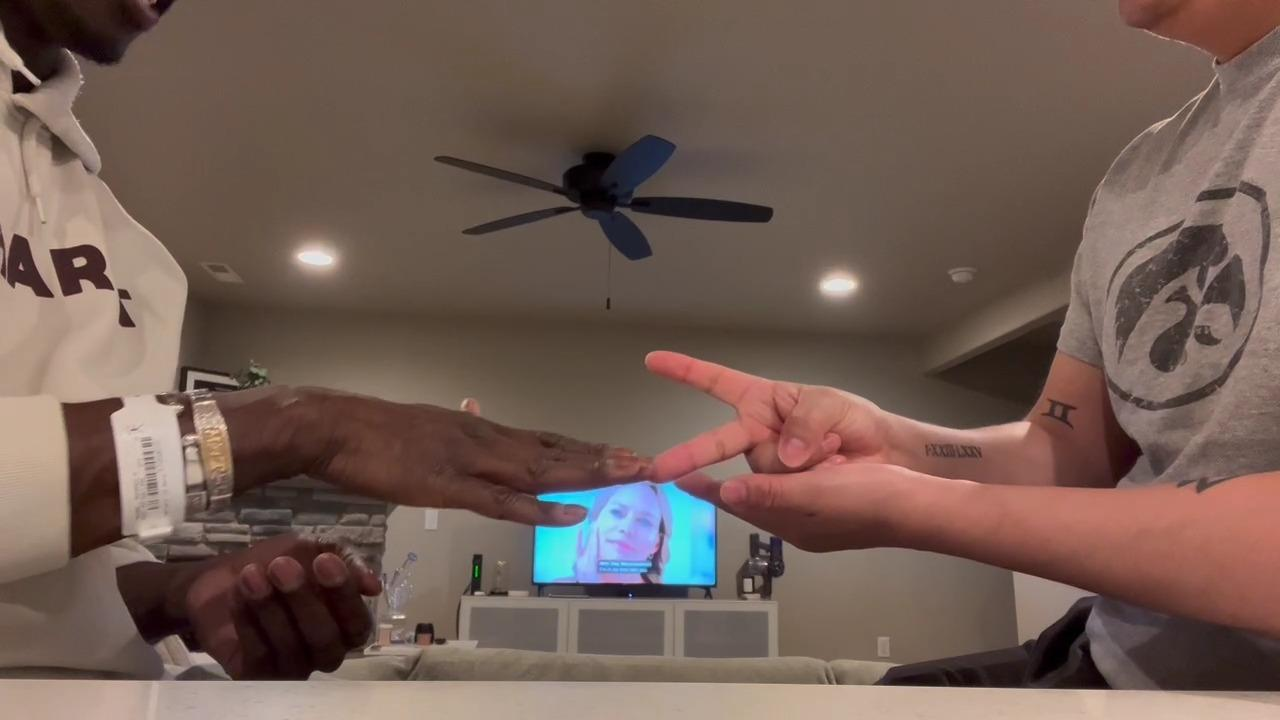Paper: (280, 391, 653, 528)
Scissors: (643, 349, 892, 483)
